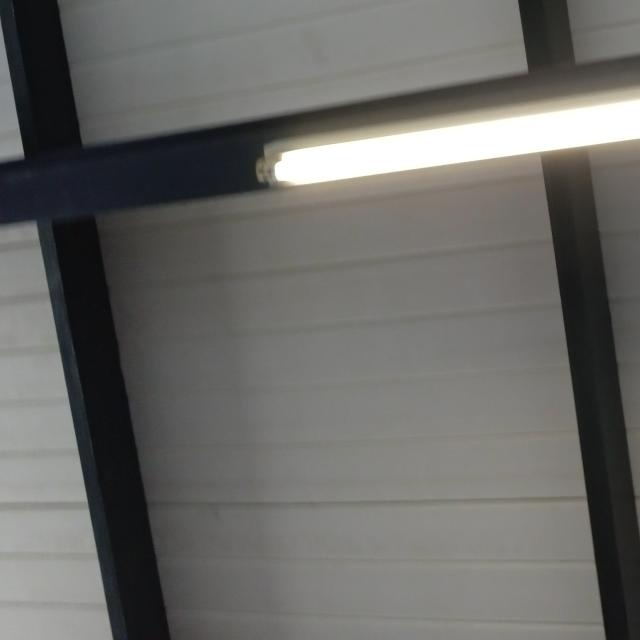fluorescent tube: (223, 4, 640, 226)
